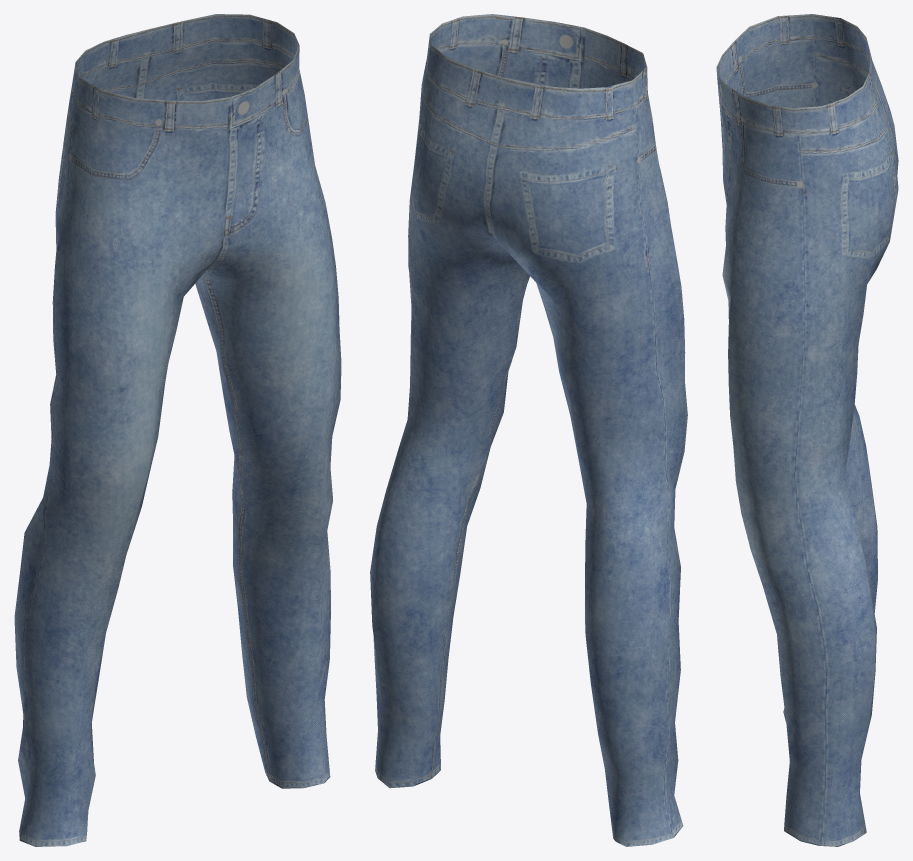
The model's file is jeans-blue.glb.
3 renders of one model, left to right at view 1: azimuth 30°, elevation 25°; view 2: azimuth 150°, elevation 25°; view 3: azimuth 270°, elevation 25°, orthographic. The views are drawn at different scales.
Visible parts, largest first — view 1: default_default_0; view 2: default_default_0; view 3: default_default_0.
Boxes of the visible parts, left/top/right/bottom form: default_default_0: left=14, top=14, right=341, bottom=846; default_default_0: left=370, top=14, right=687, bottom=846; default_default_0: left=716, top=14, right=898, bottom=846.
Size of the model in its own units: 748 by 1809 by 412.
Materials: 1 (1 with a texture image).
